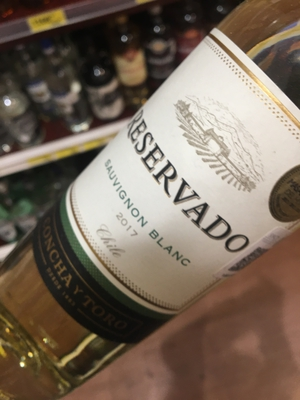reservado sauvignon blanc: (32, 36, 300, 350)
